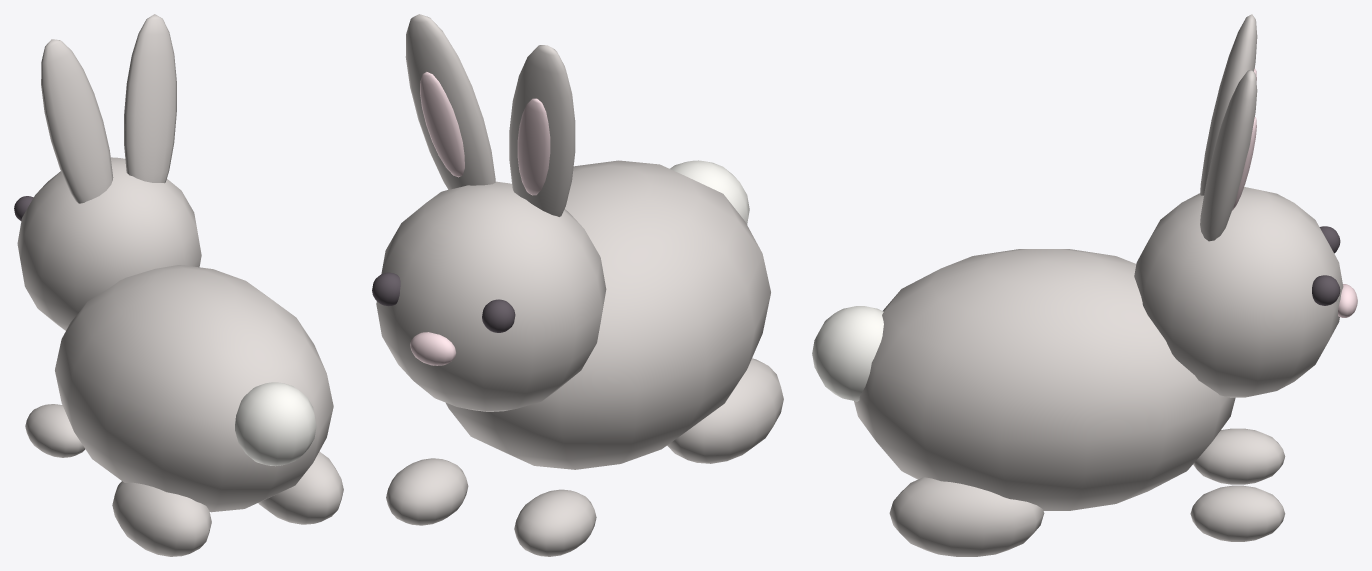
The model's file is VAnimal_Rabbit.fbx.
The picture shows the model from 3 angles, left to right: view 1: azimuth 30°, elevation 25°; view 2: azimuth 150°, elevation 25°; view 3: azimuth 270°, elevation 25°; orthographic projection. The views are drawn at different scales.
Visible parts, largest first — view 1: VAnimal_Rabbit; view 2: VAnimal_Rabbit; view 3: VAnimal_Rabbit.
Boxes of the visible parts, bbox=[...] form: VAnimal_Rabbit: bbox=[14, 14, 343, 556]; VAnimal_Rabbit: bbox=[372, 14, 783, 556]; VAnimal_Rabbit: bbox=[812, 14, 1357, 556].
Bounding box in the file's own units: 0.2925 × 0.5396 × 0.564.
